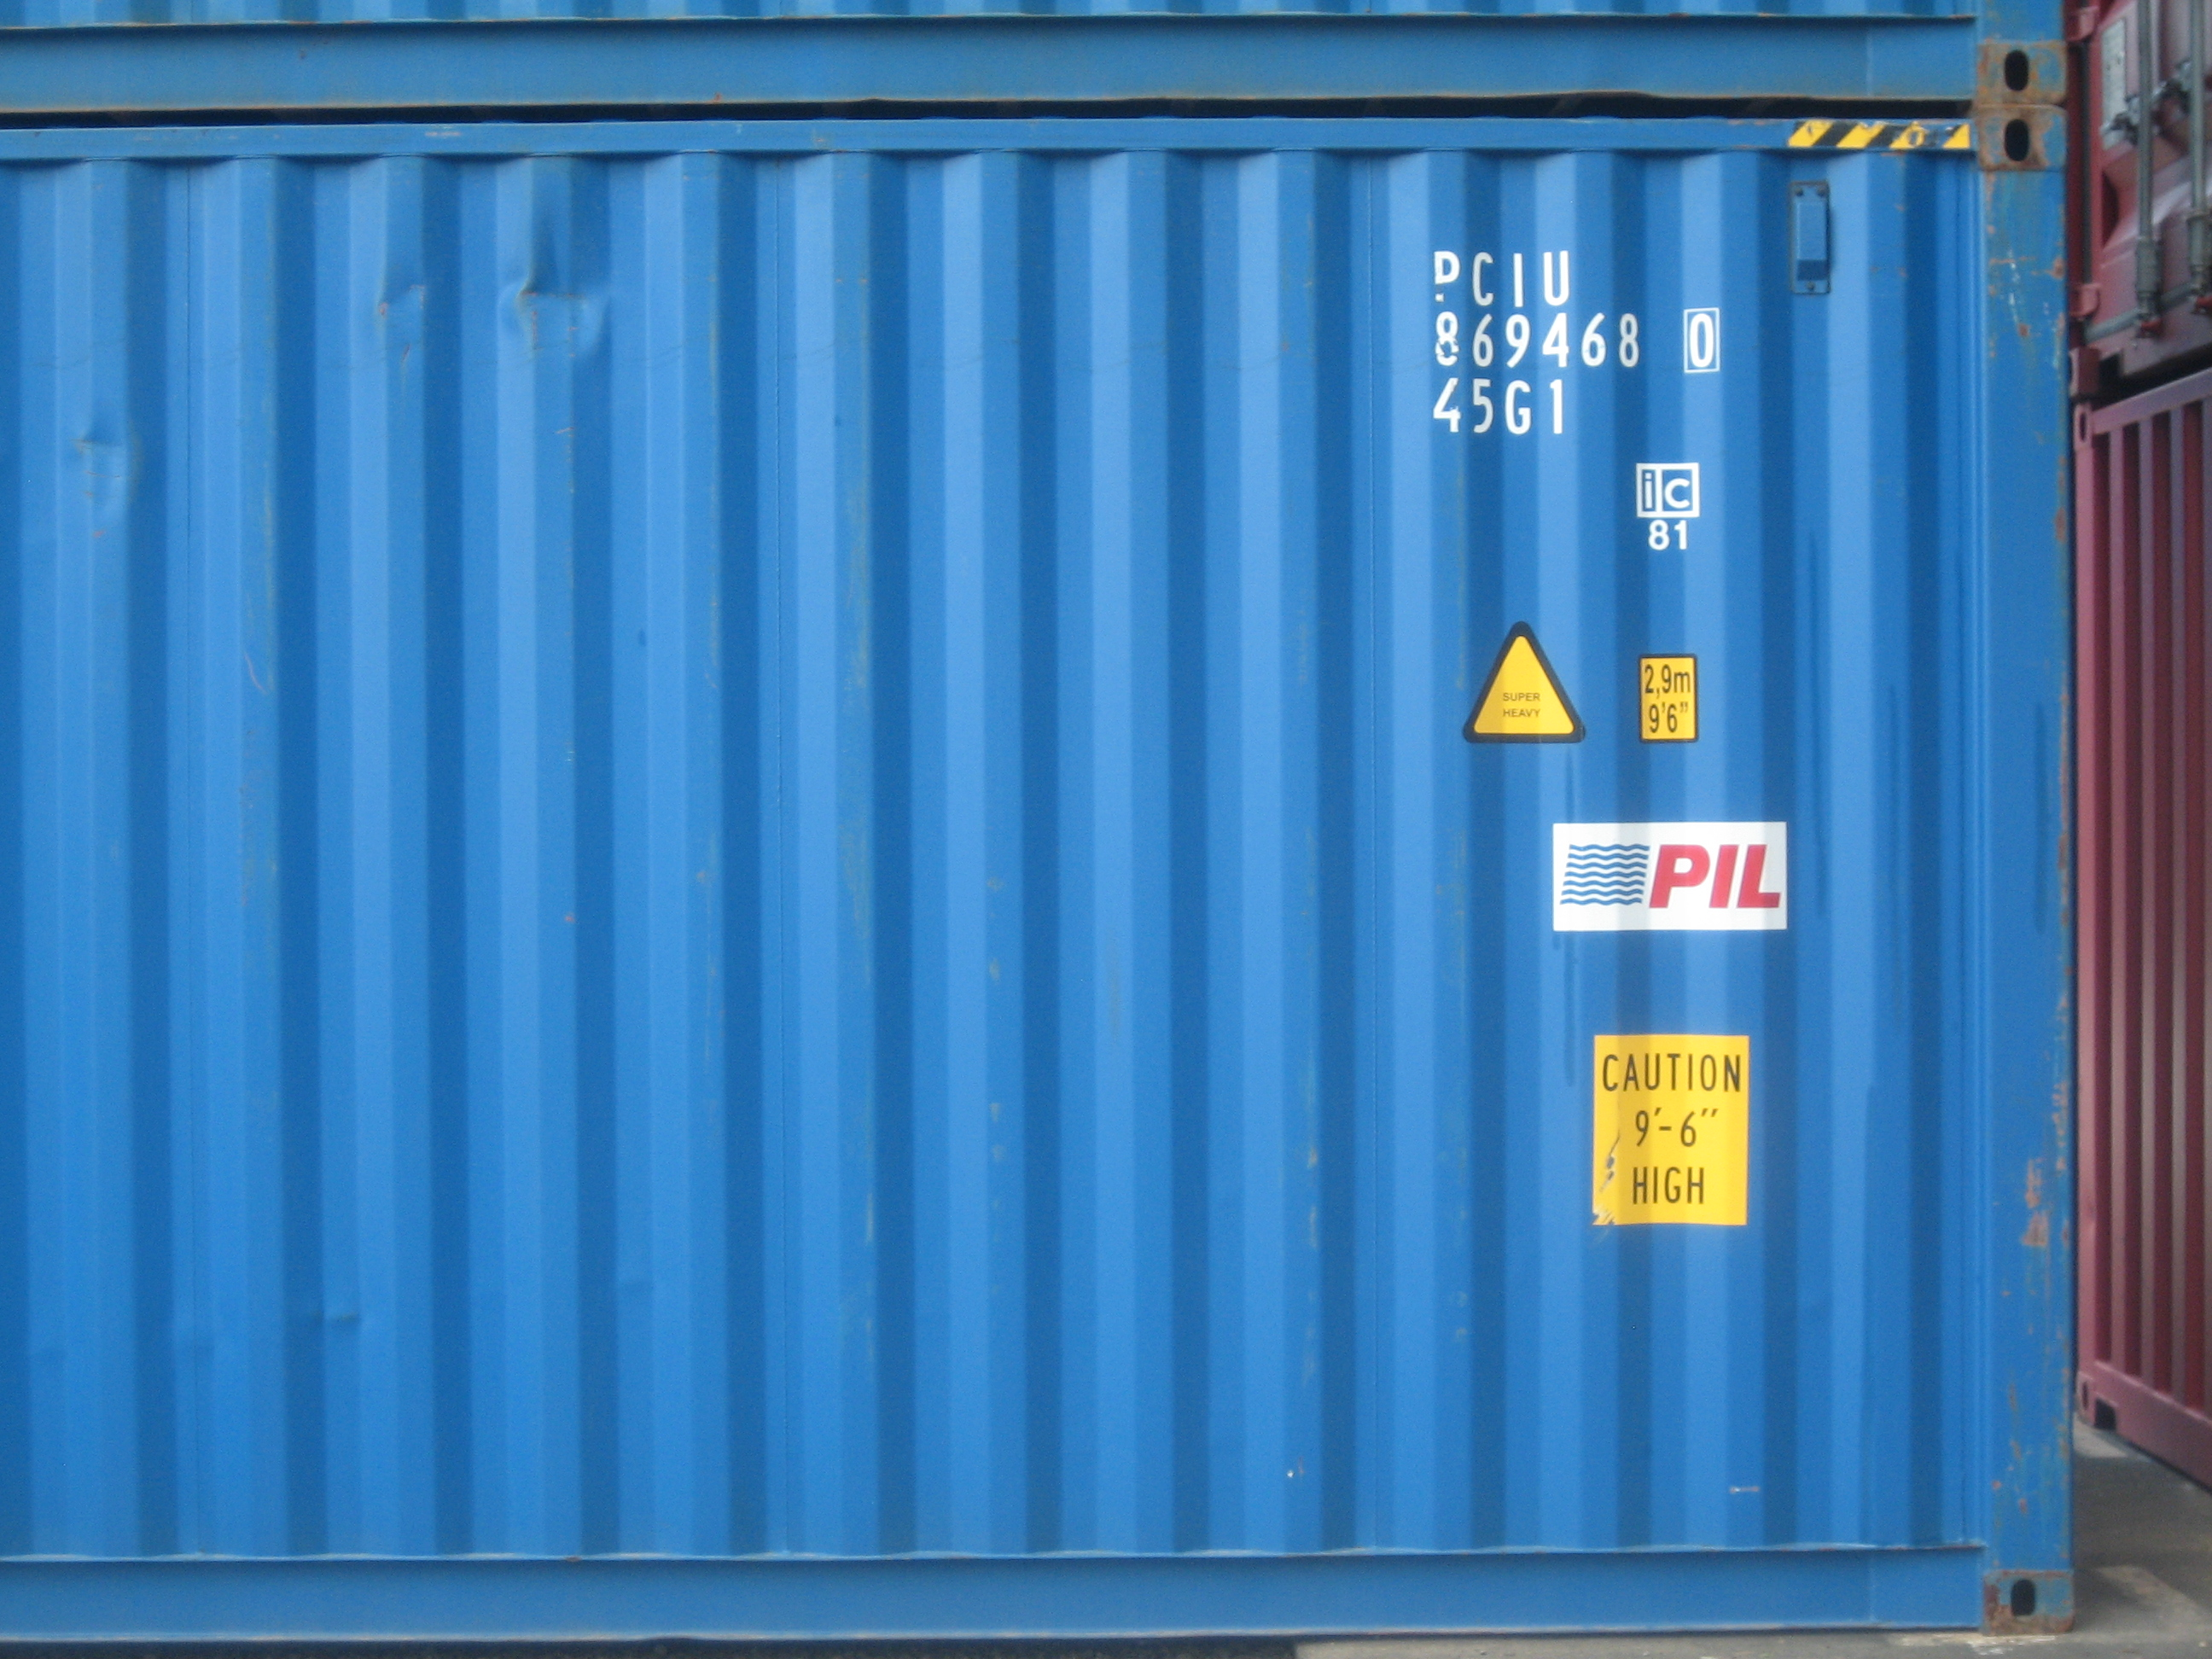container_no_door: (256, 105, 2071, 1608)
